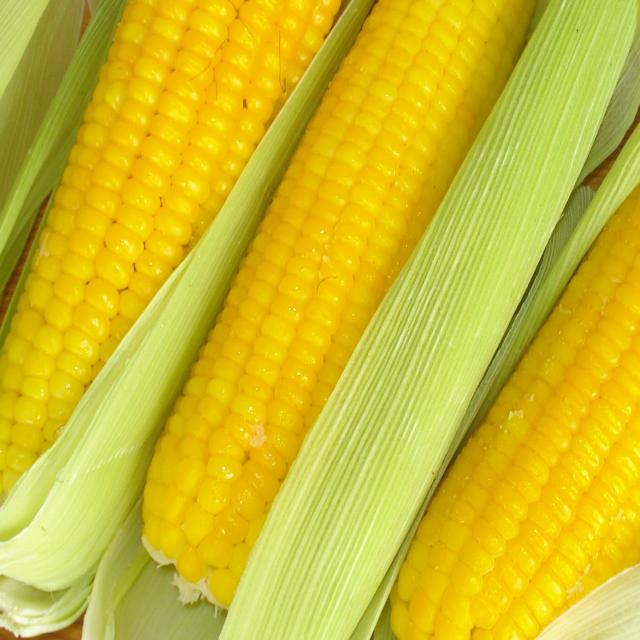corn: (129, 0, 558, 631), (0, 0, 357, 529), (379, 163, 640, 640)
